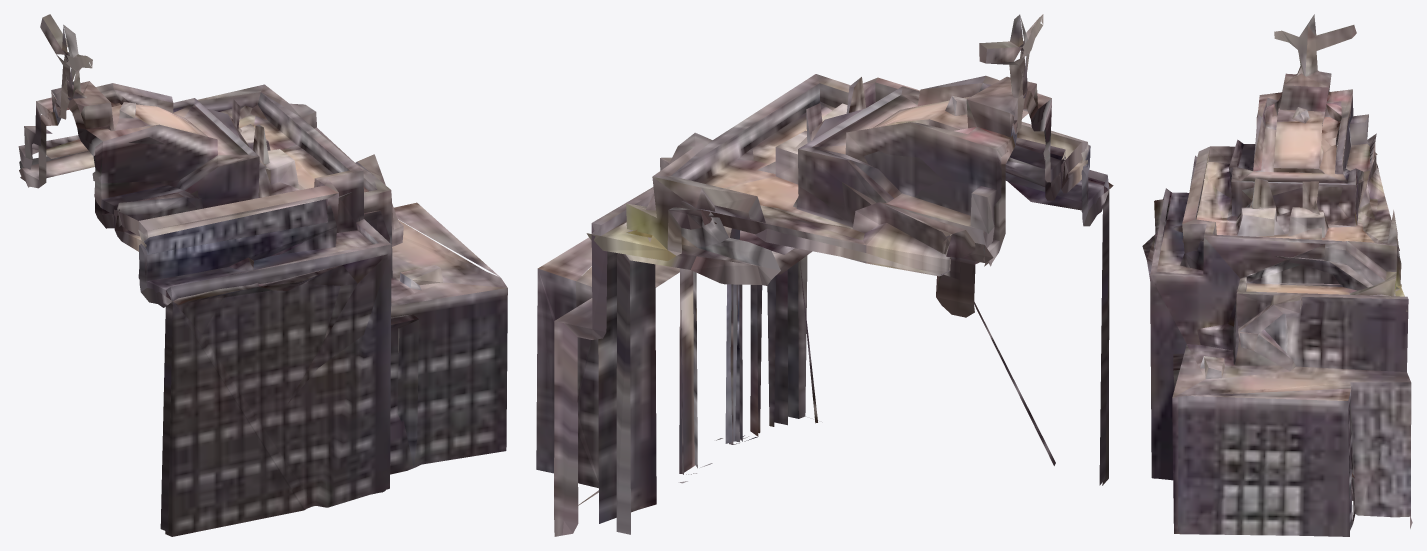
3 views of the same model, side by side, from view 1: azimuth 30°, elevation 25°; view 2: azimuth 150°, elevation 25°; view 3: azimuth 270°, elevation 25° (orthographic). The views are drawn at different scales.
Visible parts, largest first — view 1: Mesh_0; view 2: Mesh_0; view 3: Mesh_0.
Boxes of the visible parts, <box> form: Mesh_0: <box>18,14,507,536</box>; Mesh_0: <box>536,14,1113,536</box>; Mesh_0: <box>1142,14,1412,536</box>.
Size of the model in its own units: 32.97 by 37.69 by 23.98.
Materials: 1 (1 with a texture image).
